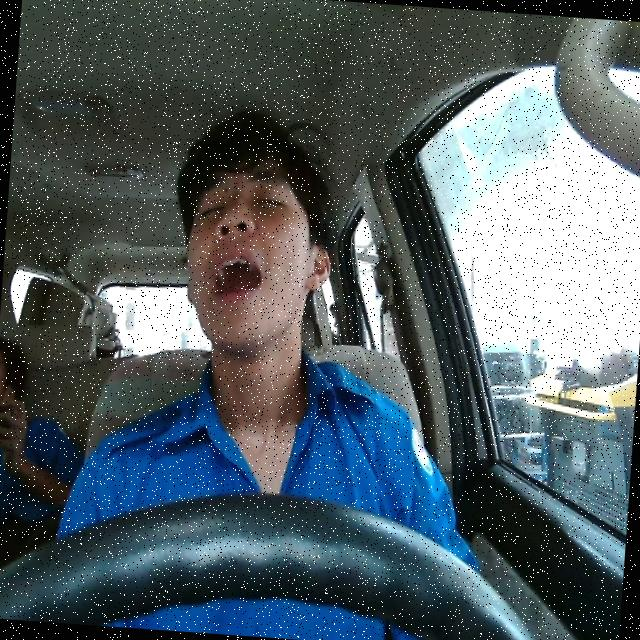yarning: (178, 148, 338, 358)
